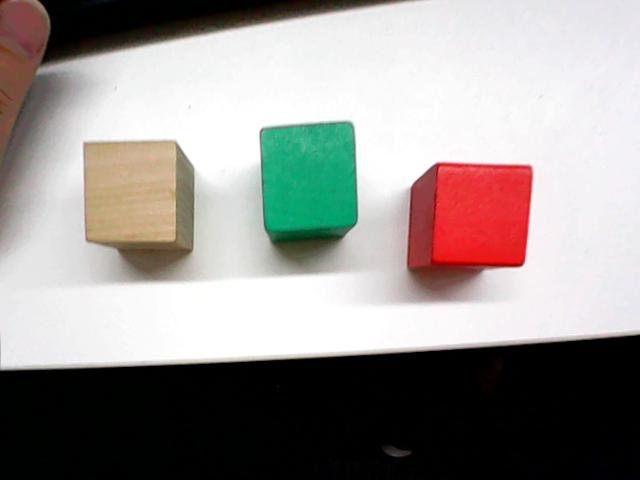green_box: (250, 116, 372, 260)
raw_box: (80, 136, 200, 258)
red_box: (404, 141, 545, 286)
